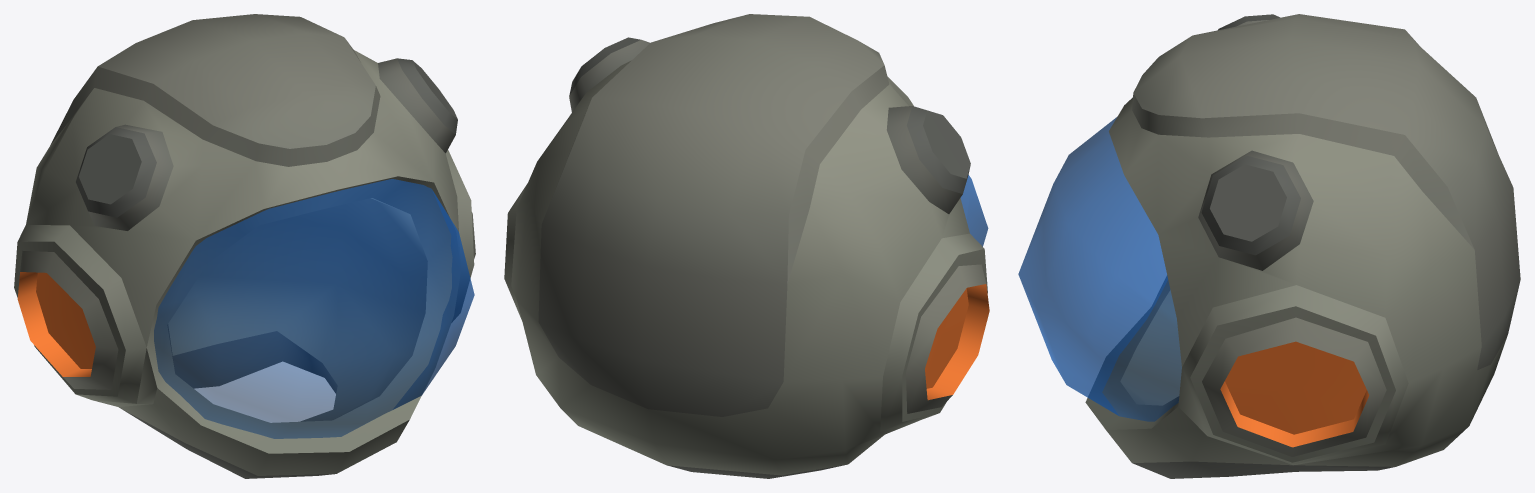
File: Headgear_26.fbx
3 views of the same model, side by side, from view 1: azimuth 30°, elevation 25°; view 2: azimuth 150°, elevation 25°; view 3: azimuth 270°, elevation 25° (orthographic). The views are drawn at different scales.
Parts seen in each view (by area): view 1: Headgear_26; view 2: Headgear_26; view 3: Headgear_26.
Boxes of the visible parts, bbox=[...] form: Headgear_26: bbox=[14, 14, 475, 478]; Headgear_26: bbox=[504, 14, 989, 478]; Headgear_26: bbox=[1018, 14, 1520, 478].
Bounding box in the file's own units: 76.13 × 69.11 × 76.29.
